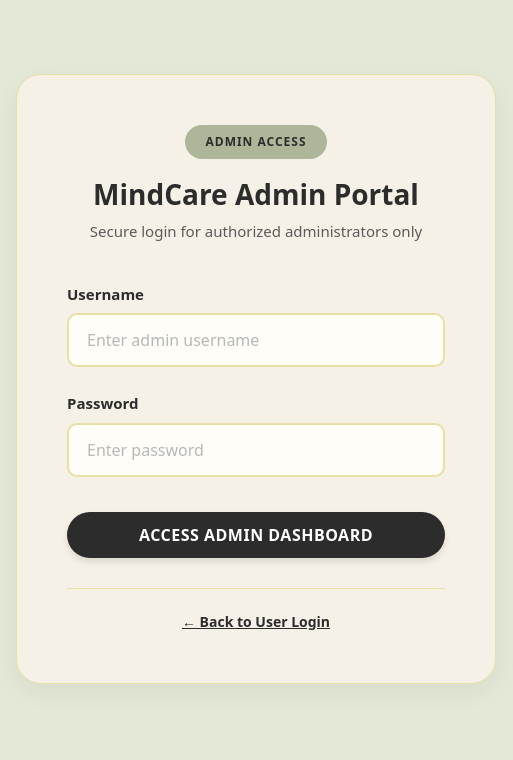
Test case: AdminLogin — API errors › shows connection error when fetch throws
Step 1. Type "x" into the field labelled "Username" → coordinates (256, 340), box [67, 313, 445, 367]
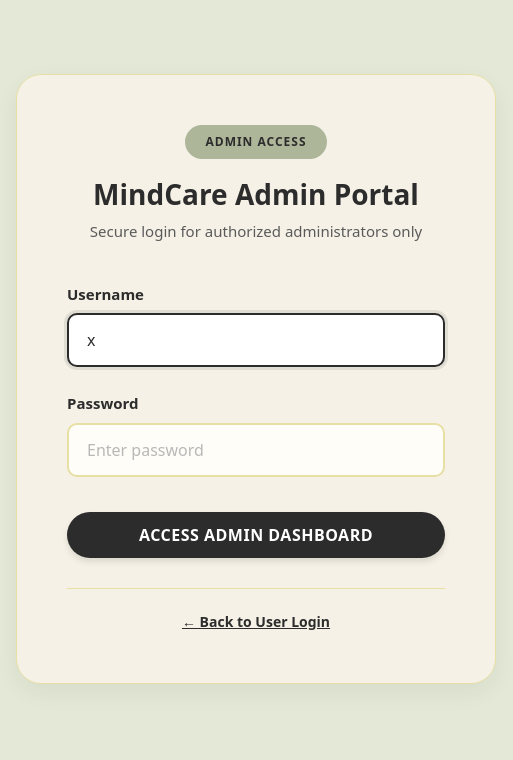
Step 2. Type "y" into the password field labelled "Password" → coordinates (256, 450), box [67, 423, 445, 477]
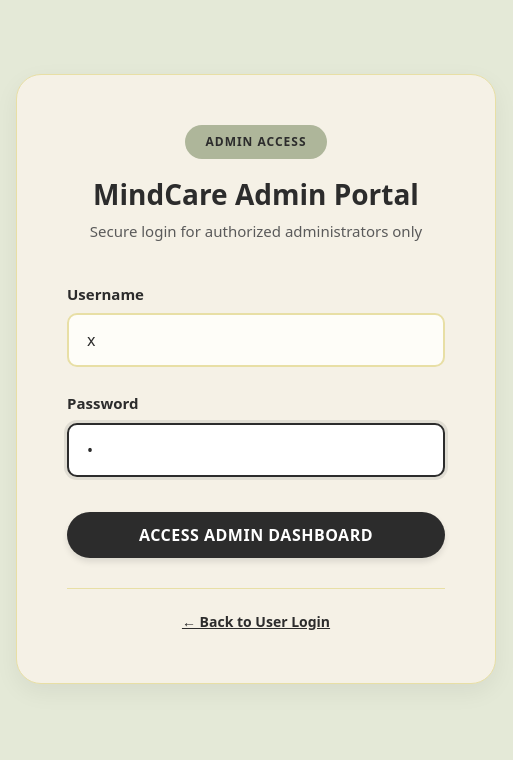
Step 3. Click the button "Access Admin Dashboard" → coordinates (256, 535), box [67, 512, 445, 558]
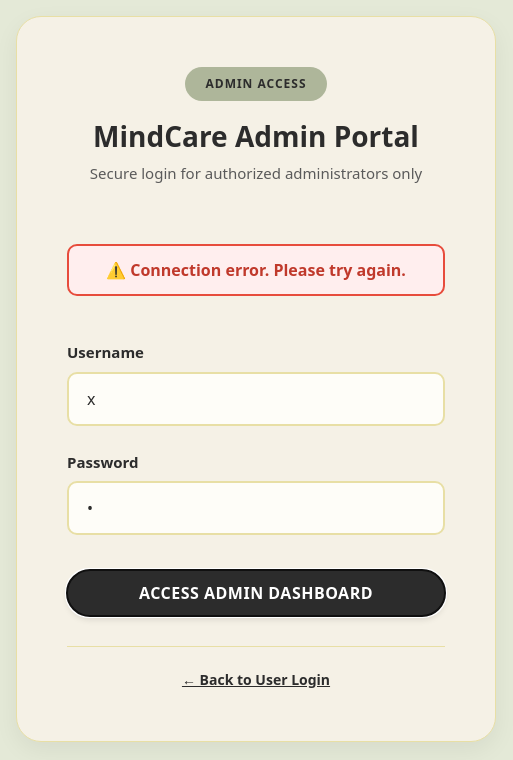
expect the text "⚠️ Connection error. Please try again." is shown: met, box [67, 244, 445, 296]
